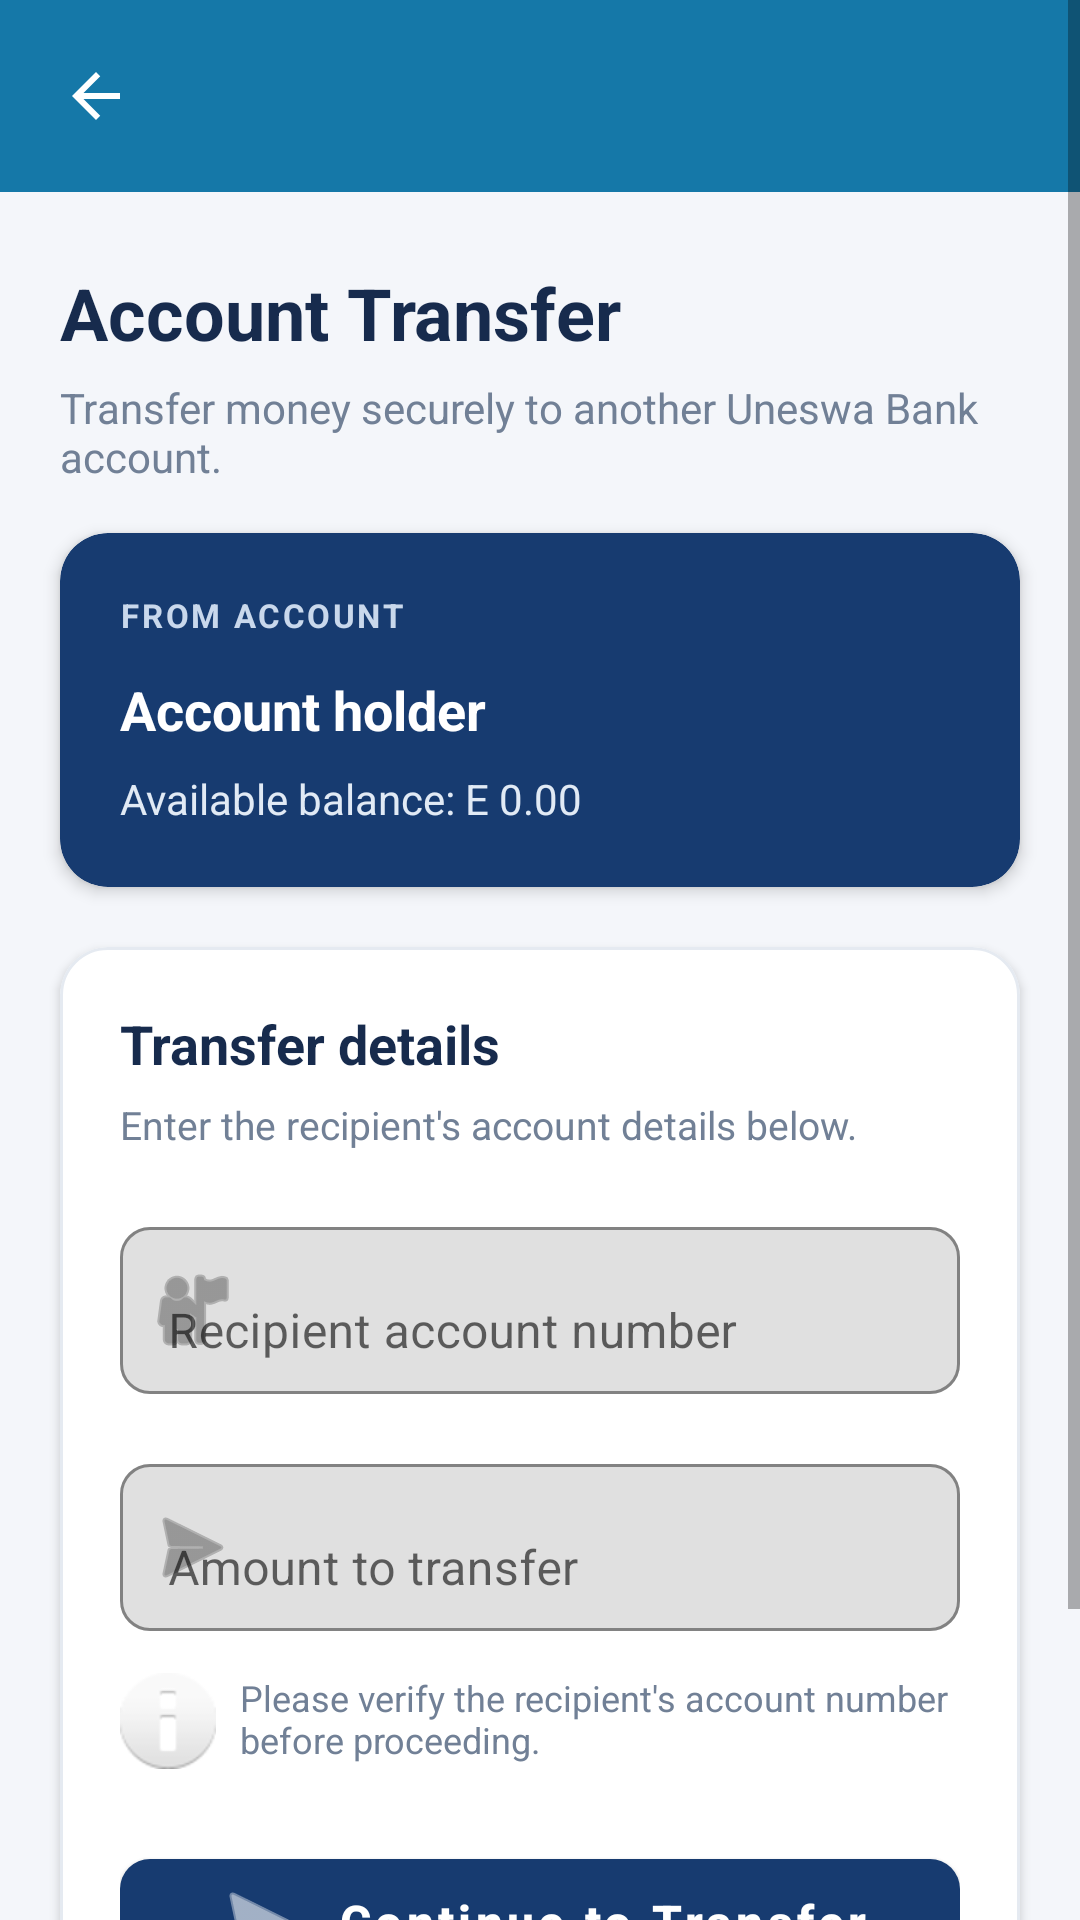

Where icons sit on this 1080px x 1920px app screen, as (x1, y1, x2, y2):
Back: (72, 72, 120, 120)
